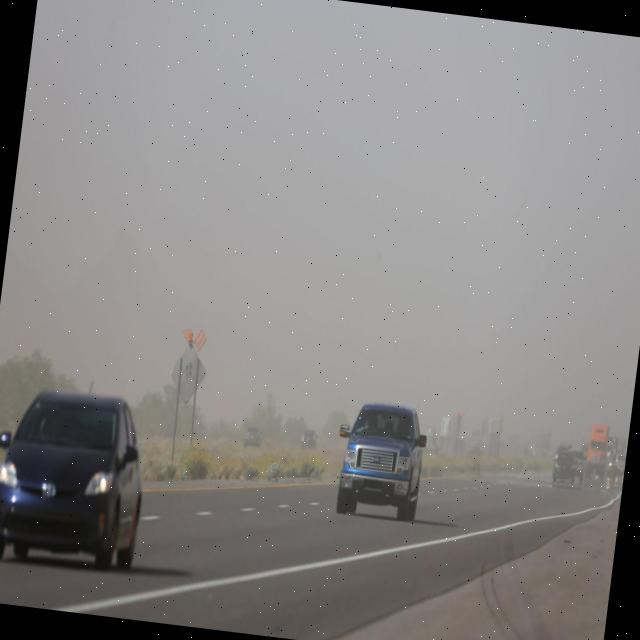bus: (586, 419, 612, 479), (603, 435, 625, 474)
car: (0, 378, 158, 575), (332, 399, 436, 523), (552, 446, 578, 486), (243, 424, 265, 451), (573, 448, 588, 479), (300, 426, 320, 449), (613, 453, 625, 478)
